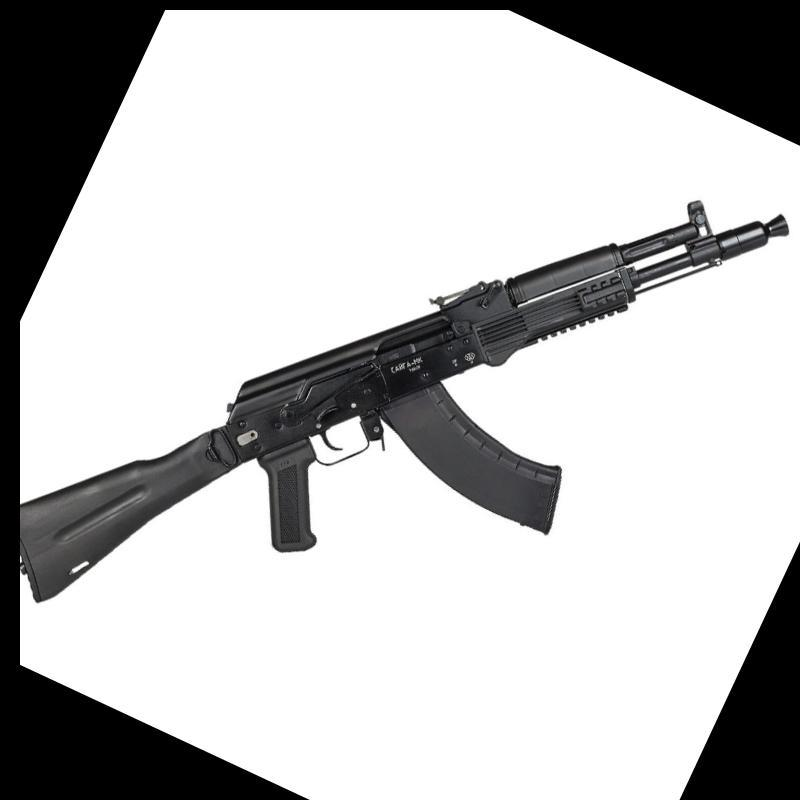larga: (21, 197, 793, 606)
